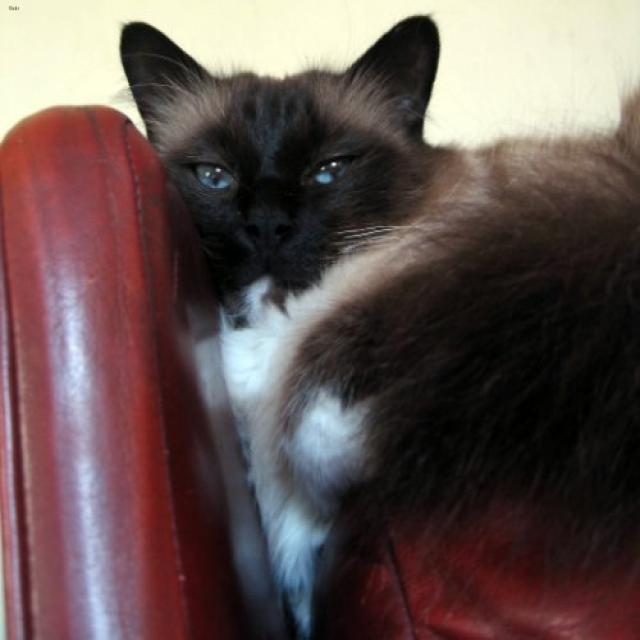Birman: (115, 12, 449, 330)
